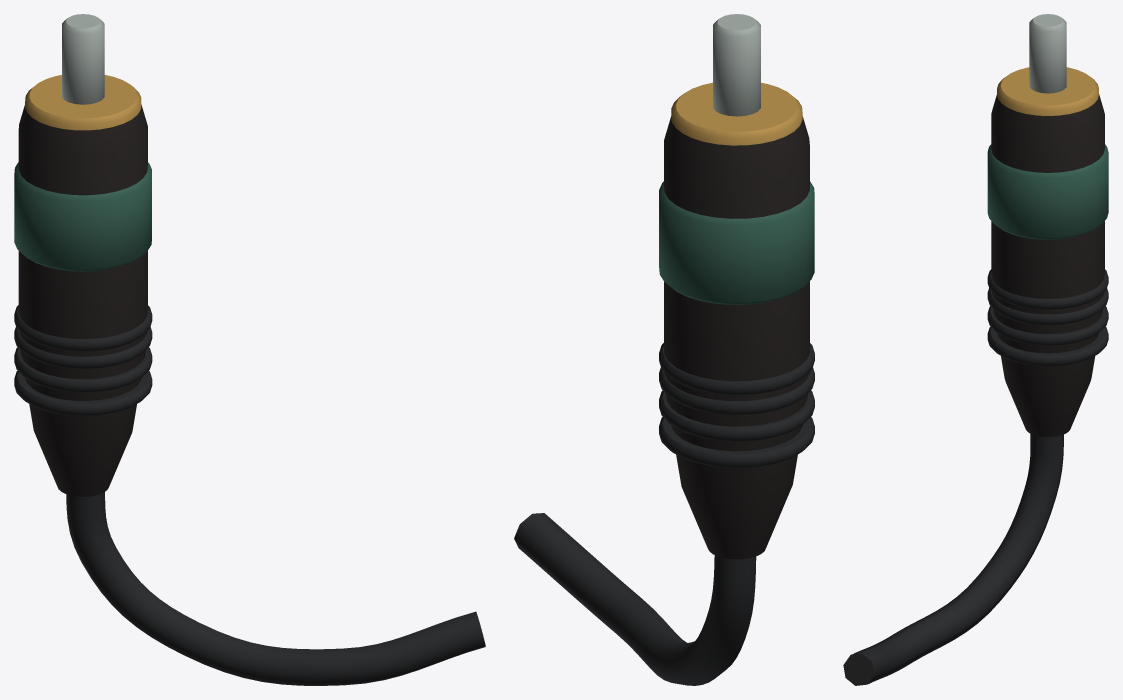
Rendered from ServicePlug_Repair.fbx.
3 renders of one model, left to right at view 1: azimuth 30°, elevation 25°; view 2: azimuth 150°, elevation 25°; view 3: azimuth 270°, elevation 25°, orthographic. The views are drawn at different scales.
Parts seen in each view (by area): view 1: Cable grip.002, Coiled lead.002, Crew identification ring.002, Brass collar.002, Contact tip.002, Grip rib.008, Grip rib.009, Grip rib.011, Grip rib.010; view 2: Cable grip.002, Coiled lead.002, Crew identification ring.002, Brass collar.002, Contact tip.002, Grip rib.008, Grip rib.009, Grip rib.011, Grip rib.010; view 3: Cable grip.002, Coiled lead.002, Crew identification ring.002, Brass collar.002, Contact tip.002, Grip rib.008, Grip rib.009, Grip rib.011, Grip rib.010.
Boxes of the visible parts, x1,y1,x2,y2 form: Cable grip.002: (18, 104, 147, 496); Coiled lead.002: (66, 492, 485, 685); Crew identification ring.002: (14, 162, 151, 271); Brass collar.002: (25, 75, 141, 130); Contact tip.002: (62, 14, 104, 104); Grip rib.008: (14, 370, 152, 415); Grip rib.009: (14, 347, 152, 392); Grip rib.011: (14, 305, 152, 351); Grip rib.010: (14, 327, 152, 368); Cable grip.002: (664, 116, 809, 559); Coiled lead.002: (514, 513, 756, 685); Crew identification ring.002: (659, 181, 814, 304); Brass collar.002: (671, 82, 802, 145); Contact tip.002: (713, 14, 760, 116); Grip rib.008: (659, 417, 814, 467); Grip rib.009: (659, 390, 814, 441); Grip rib.011: (659, 343, 814, 395); Grip rib.010: (659, 367, 814, 414); Cable grip.002: (991, 94, 1104, 437); Coiled lead.002: (843, 434, 1063, 685); Crew identification ring.002: (987, 144, 1108, 239); Brass collar.002: (997, 67, 1098, 115); Contact tip.002: (1029, 14, 1066, 93); Grip rib.008: (987, 326, 1108, 366); Grip rib.009: (987, 306, 1108, 345); Grip rib.011: (987, 269, 1108, 309); Grip rib.010: (987, 288, 1108, 325).
Size of the model in its own units: 0.1906 by 0.3313 by 0.1402.
